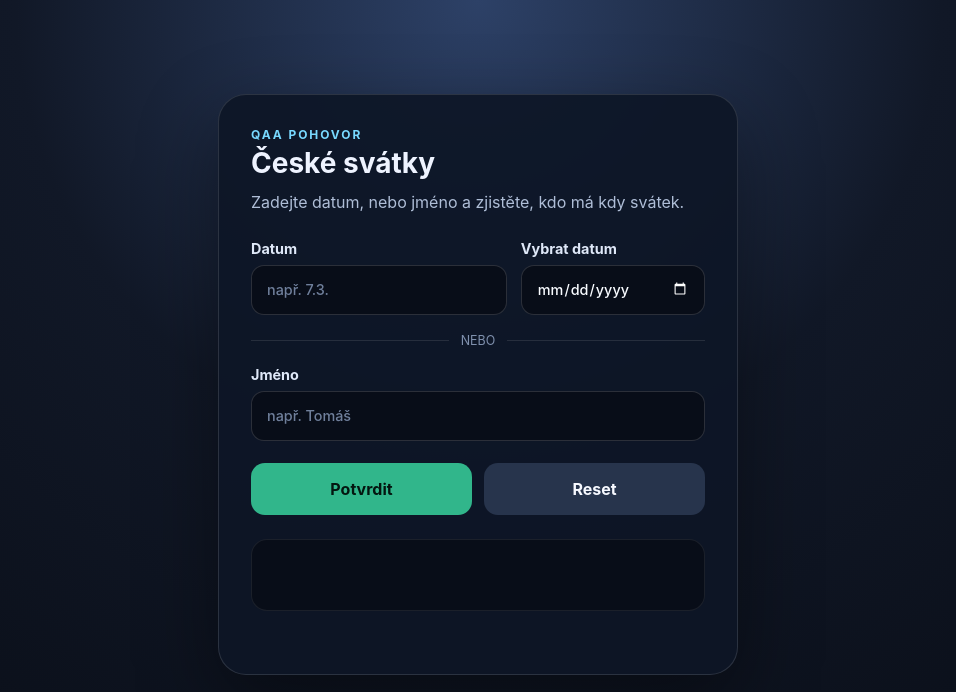
Test: NamedayForm component › Date validation › shows the invalid-date message for a non-existent date
The width and height of the screenshot is (956, 692).
Type "32.1." into the field with test id "date-input". click: point(379, 290)
box: [251, 265, 507, 315]
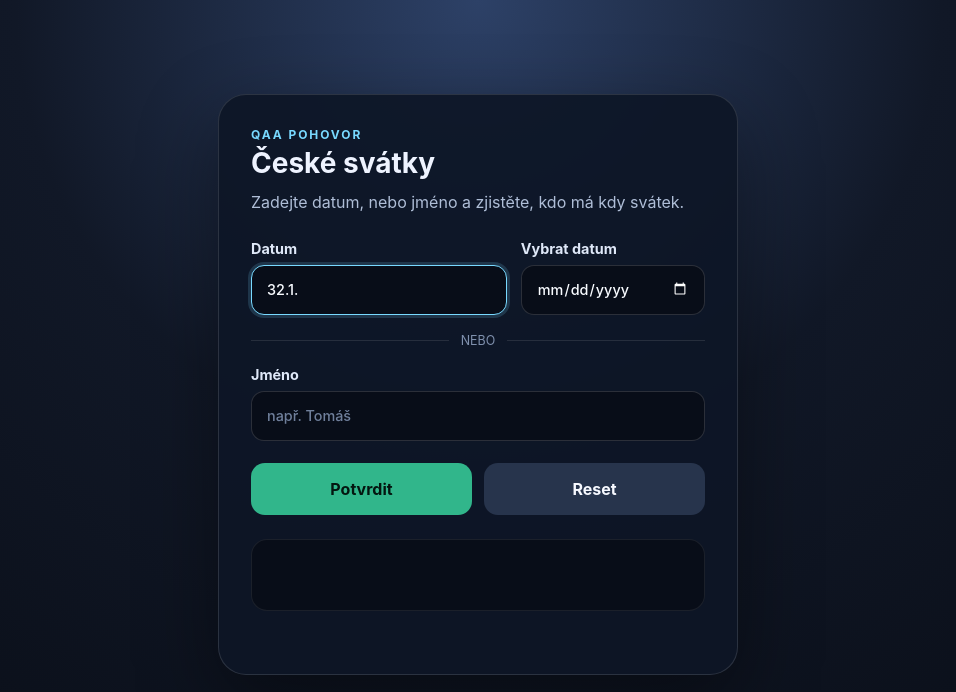
Click the button with test id "confirm". click: point(362, 489)
box: [251, 463, 472, 515]
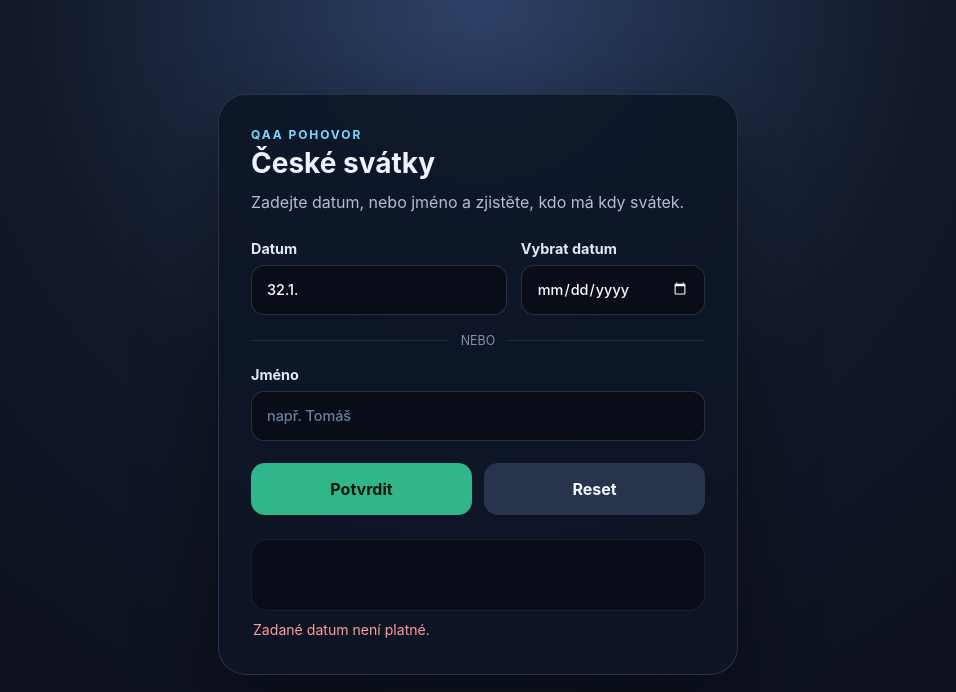
Expected: the text "Zadané datum není platné." is shown, [253, 620, 430, 638]
